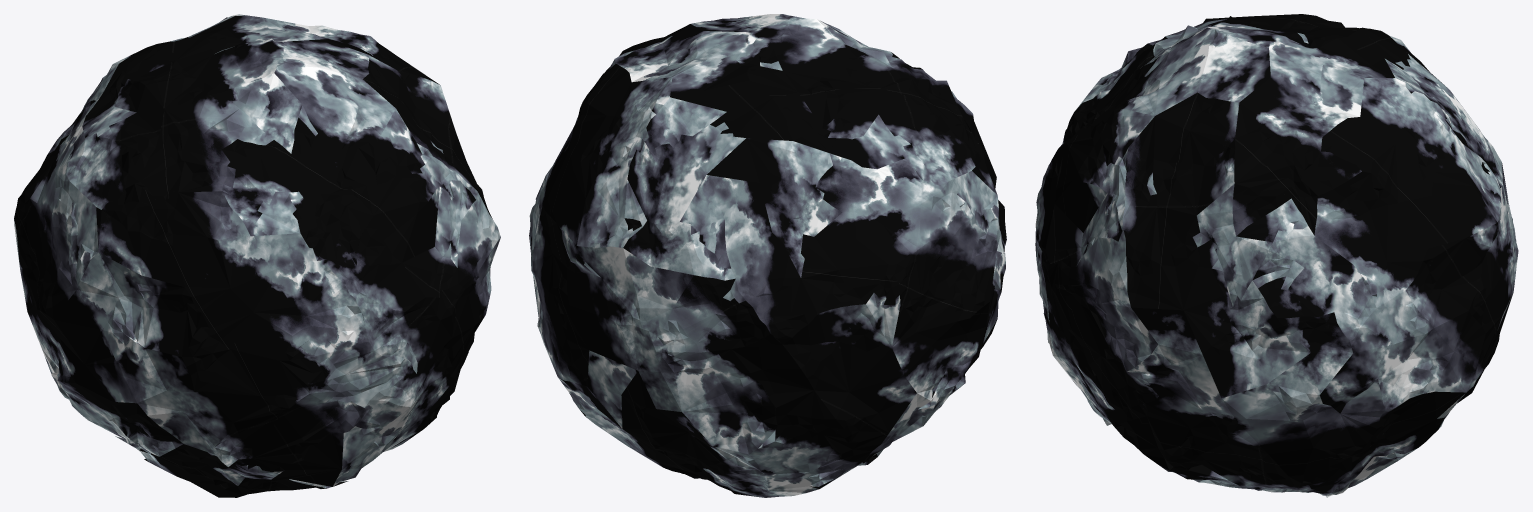
File: skySphere.FBX
The picture shows the model from 3 angles, left to right: view 1: azimuth 30°, elevation 25°; view 2: azimuth 150°, elevation 25°; view 3: azimuth 270°, elevation 25°; orthographic projection.
Parts seen in each view (by area): view 1: GeoSphere001; view 2: GeoSphere001; view 3: GeoSphere001.
Boxes of the visible parts, x1=… form: GeoSphere001: x1=14, y1=14, x2=500, y2=497; GeoSphere001: x1=529, y1=14, x2=1006, y2=497; GeoSphere001: x1=1035, y1=14, x2=1518, y2=497.
Size of the model in its own units: 406 by 399 by 399.
